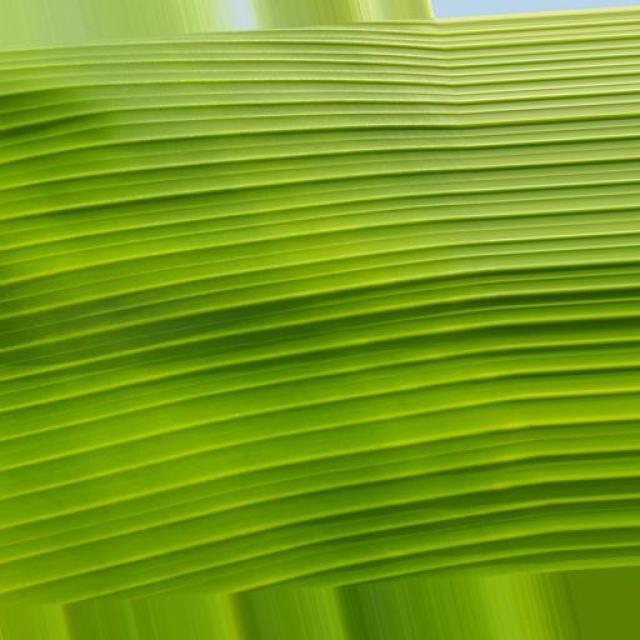Black_leaf_spot: (18, 5, 634, 602)
